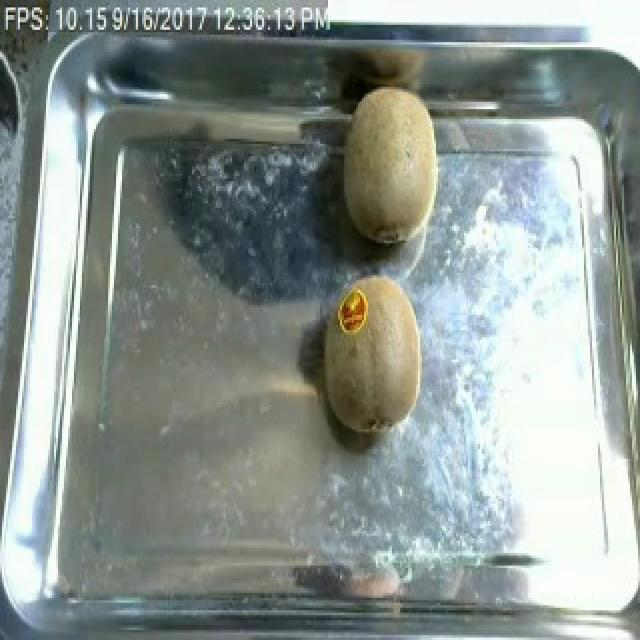Fruit: (302, 268, 432, 441), (330, 74, 448, 256)
